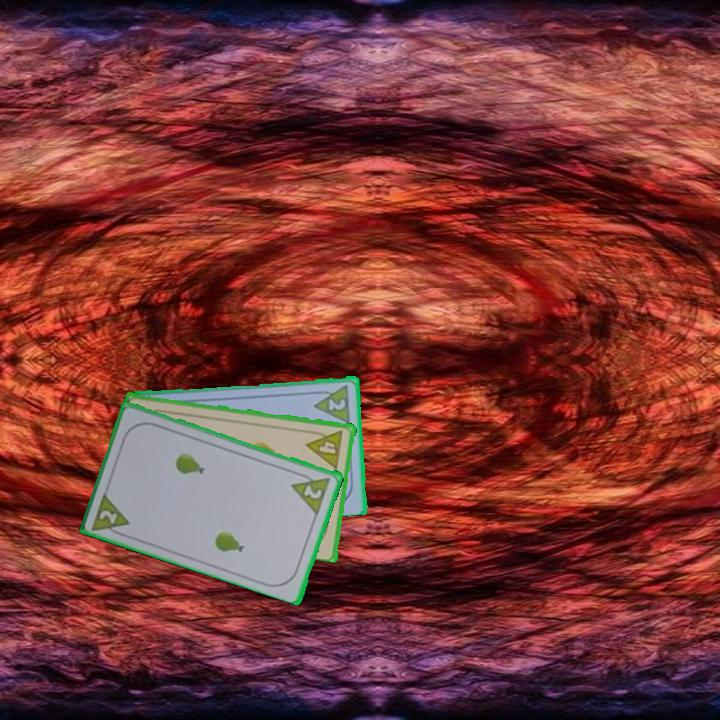2p: (88, 488, 133, 540), (311, 380, 353, 425), (300, 481, 325, 502)
4p: (304, 426, 346, 471)
